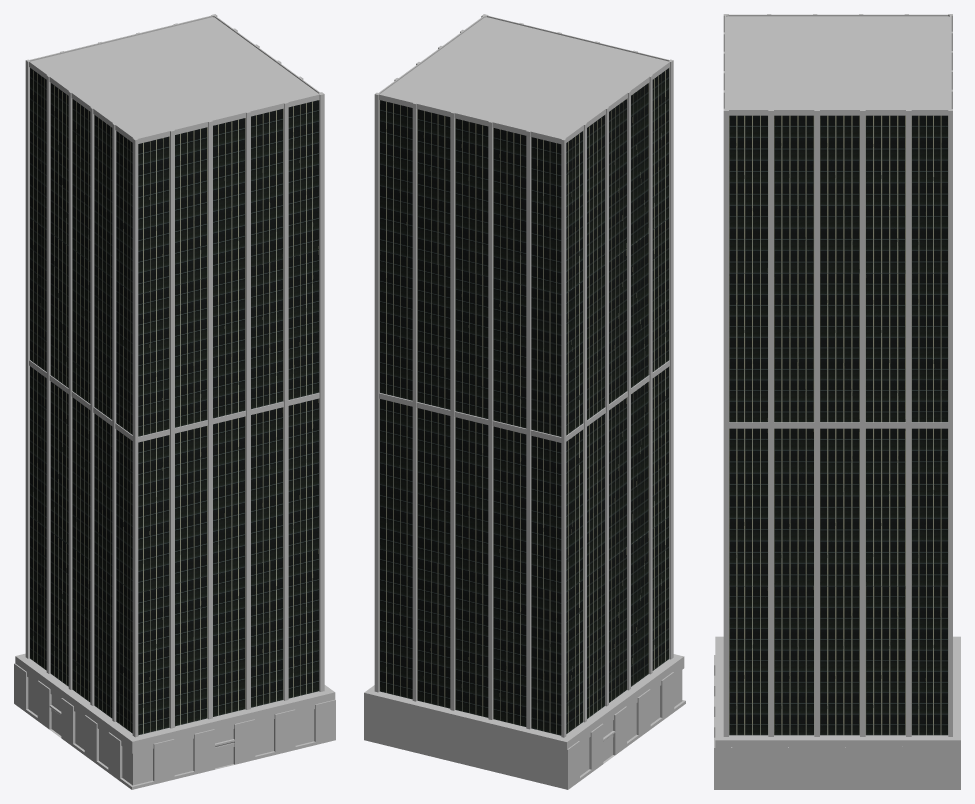
3 views of the same model, side by side, from view 1: azimuth 30°, elevation 25°; view 2: azimuth 150°, elevation 25°; view 3: azimuth 270°, elevation 25° (orthographic). The views are drawn at different scales.
Visible parts, largest first — view 1: EC-008; view 2: EC-008; view 3: EC-008.
Boxes of the visible parts, x1,y1,x2,y2 form: EC-008: [14, 14, 335, 789]; EC-008: [364, 14, 685, 789]; EC-008: [714, 14, 960, 789].
Size of what is drawn, in the model's own units: 36 by 109 by 36.
